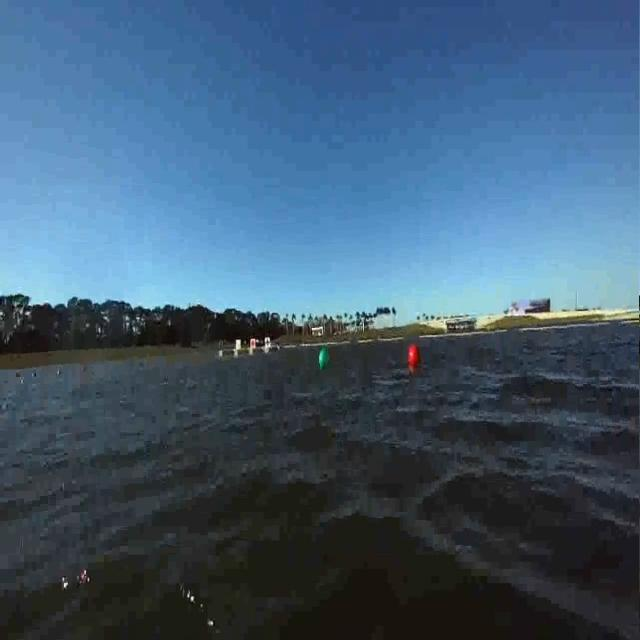green-buoy: (318, 345, 333, 377)
red-buoy: (409, 344, 420, 366)
